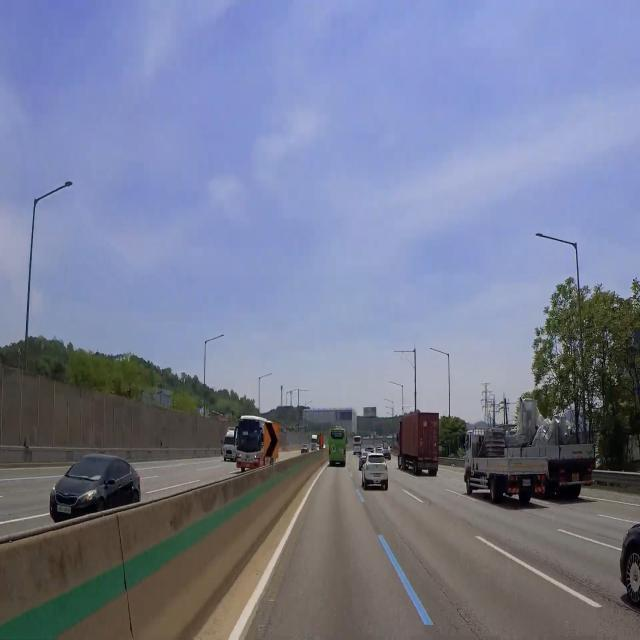car: (567, 471, 584, 490), (54, 500, 73, 517), (521, 475, 534, 491), (369, 471, 386, 480)
